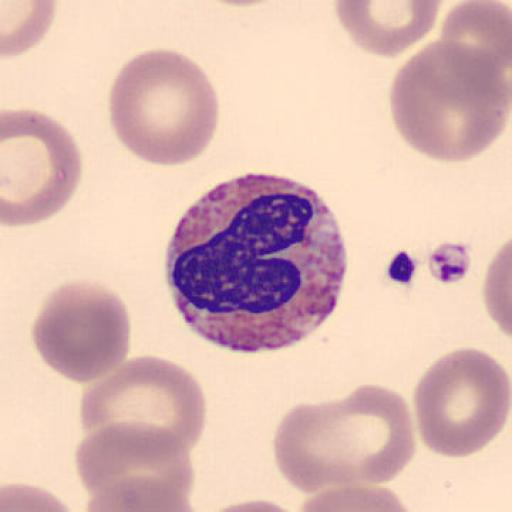RBC: (272, 384, 418, 502), (387, 37, 510, 166), (78, 352, 208, 460), (108, 47, 222, 167), (411, 346, 511, 460), (74, 419, 196, 510), (31, 278, 133, 385), (318, 382, 416, 491), (1, 106, 84, 228), (272, 396, 366, 495), (333, 0, 445, 59), (439, 0, 512, 89), (82, 475, 194, 512), (295, 484, 420, 512), (480, 234, 512, 342), (2, 0, 58, 59), (1, 479, 79, 512), (196, 496, 306, 512), (197, 0, 287, 7)
WBC: (163, 174, 349, 356)
